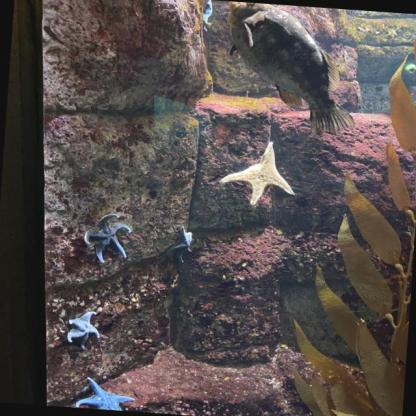fish: (219, 1, 364, 136)
starfish: (219, 139, 300, 207), (82, 211, 134, 265), (72, 376, 134, 411), (64, 309, 102, 349), (167, 226, 195, 265)
